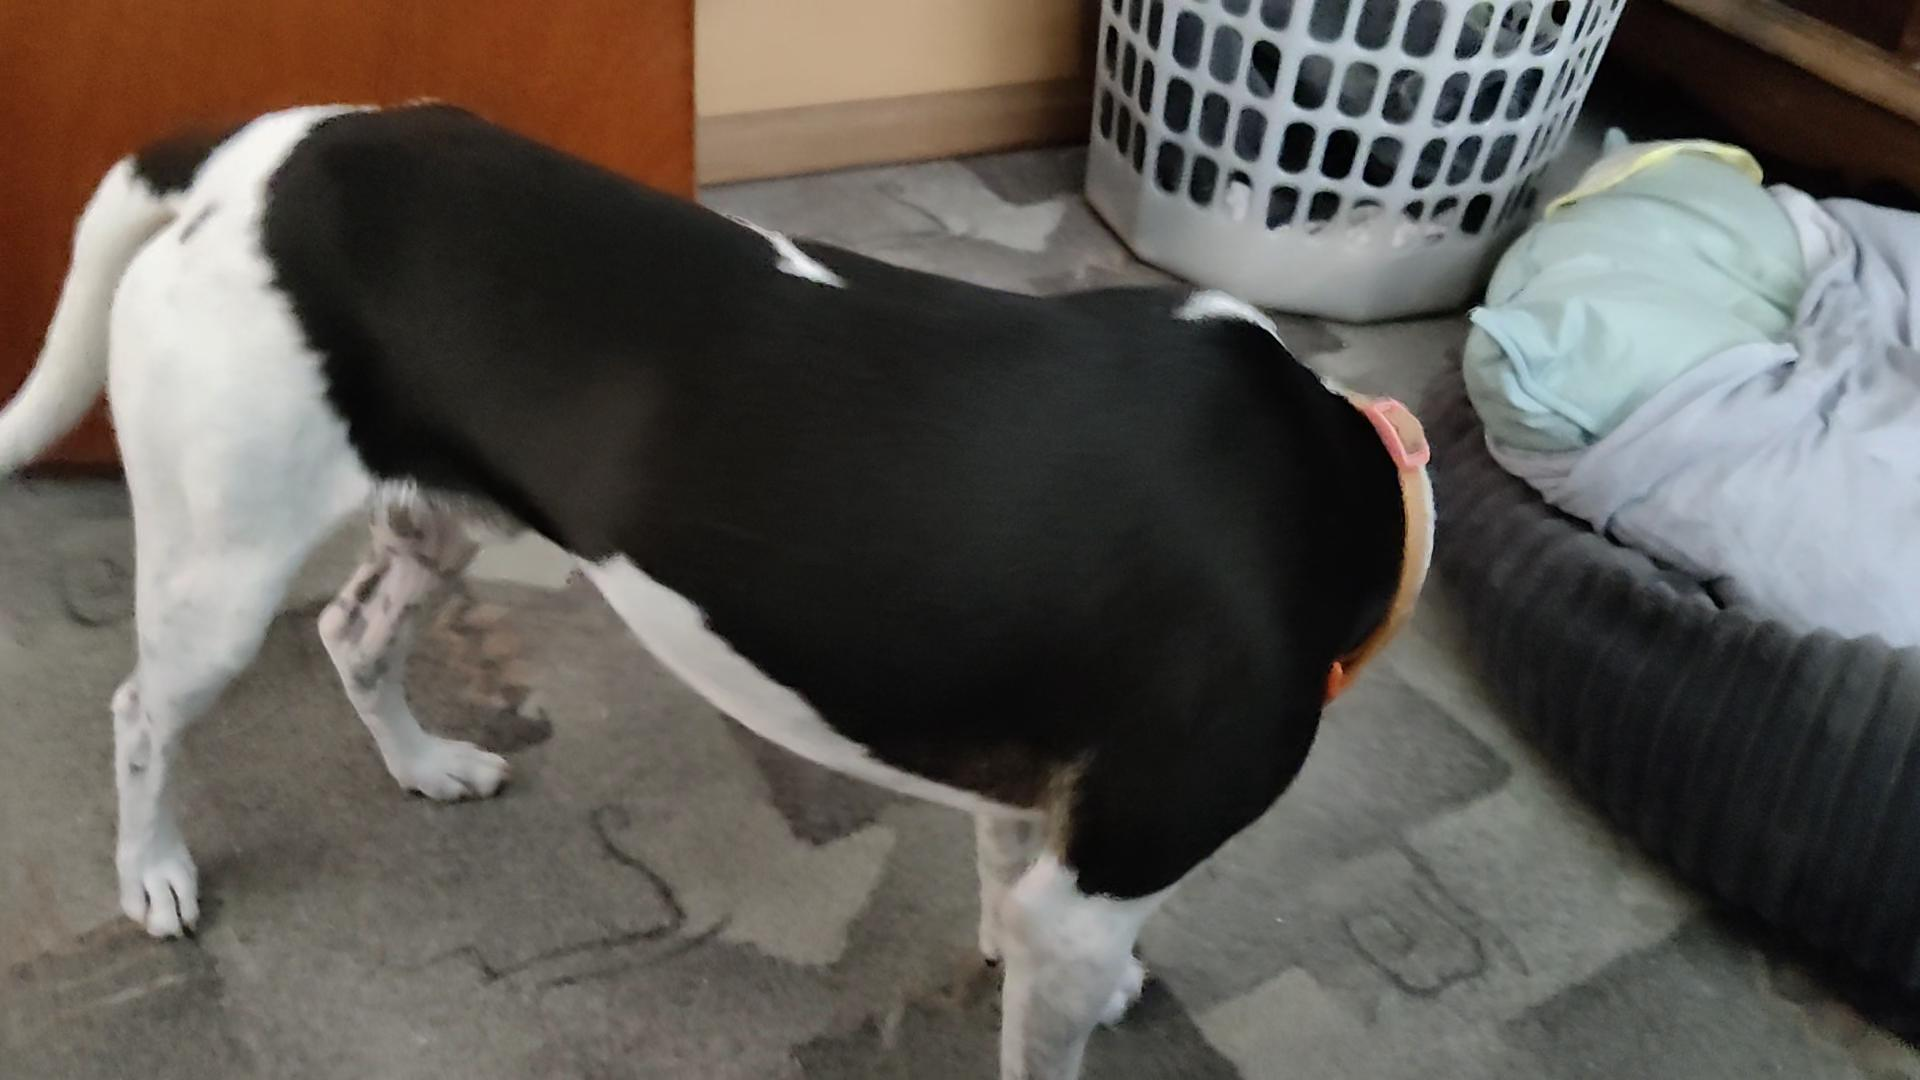Dog: (0, 94, 1445, 1079)
